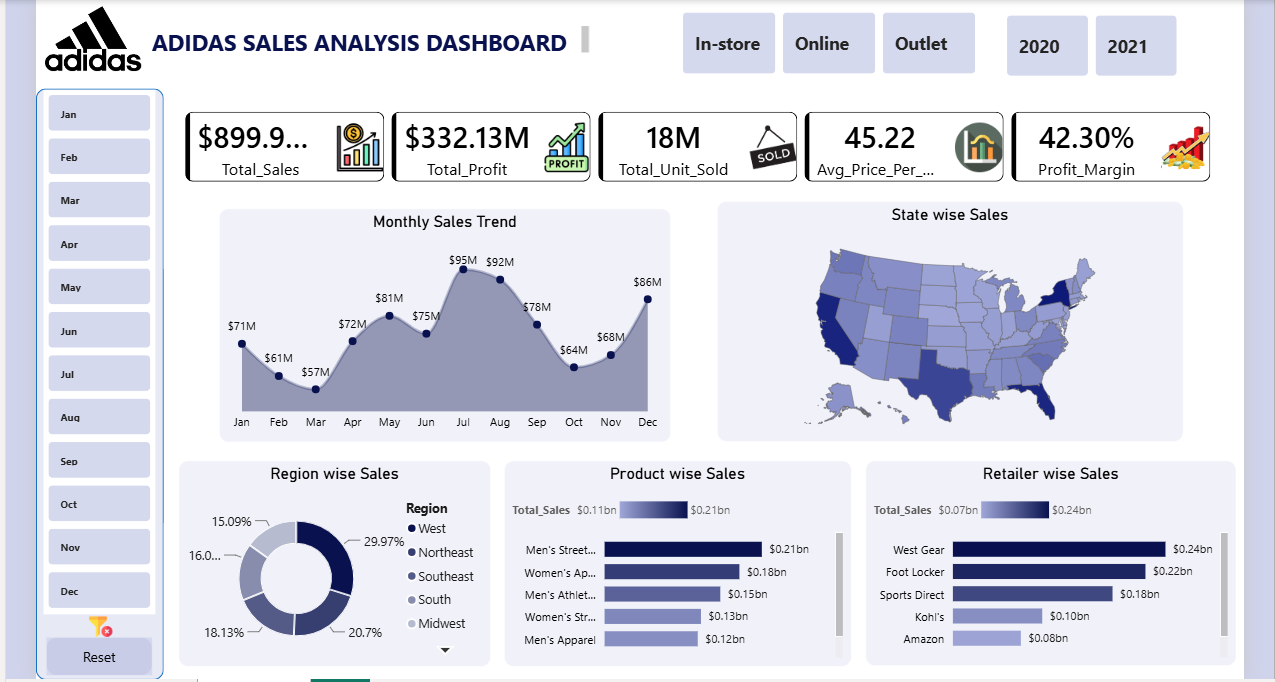

What the dashboard file says about the page in this screenshot:
{"tool":"powerbi","page":{"name":"Page 1","canvas":[1280,720],"ordinal":0},"visuals":[{"type":"cardVisual","fields":{"Data":["Data Sales Adidas.Total_Sales","Data Sales Adidas.Total_Profit","Data Sales Adidas.Total_Unit_Sold","Data Sales Adidas.Avg_Price_Per_Unit","Data Sales Adidas.Profit_Margin"]},"box":[138.9,98.1,1131.5,114.8],"z":0},{"type":"image","box":[8.9,0,102.2,82.2],"z":1000},{"type":"textbox","box":[117.8,22.2,473.3,40],"z":2000},{"type":"shape","box":[0,93.8,135.4,627.1],"z":3000},{"type":"areaChart","title":"Monthly Sales Trend","fields":{"Category":["Data Sales Adidas.Month"],"Y":["Data Sales Adidas.Total_Sales"]},"box":[194.4,220.4,479.6,248.1],"z":4000},{"type":"shapeMap","title":"State wise Sales","fields":{"Category":["Data Sales Adidas.State"],"Value":["Data Sales Adidas.Total_Sales"]},"box":[722.2,213,494.4,255.6],"z":5000},{"type":"donutChart","title":"Region wise Sales","fields":{"Category":["Data Sales Adidas.Region"],"Y":["Data Sales Adidas.Total_Sales"]},"box":[151.9,488.9,331.5,218.5],"z":6000},{"type":"clusteredBarChart","title":"Product wise Sales","fields":{"Category":["Data Sales Adidas.Product"],"Y":["Data Sales Adidas.Total_Sales"]},"box":[496.3,488.9,368.5,218.5],"z":7000},{"type":"clusteredBarChart","title":"Retailer wise Sales","fields":{"Category":["Data Sales Adidas.Retailer"],"Y":["Data Sales Adidas.Total_Sales"]},"box":[879.6,488.9,393.3,217.8],"z":8000},{"type":"advancedSlicerVisual","fields":{"Values":["Data Sales Adidas.Sales Method"]},"box":[680.4,8.7,320.8,75],"z":9000},{"type":"advancedSlicerVisual","fields":{"Values":["Data Sales Adidas.Invoice Date.Variation.Date Hierarchy.Year"]},"box":[1023.9,10.9,190.7,74.1],"z":10000},{"type":"advancedSlicerVisual","fields":{"Values":["Data Sales Adidas.Month"]},"box":[8.3,95.8,118.8,556.2],"z":11000},{"type":"image","box":[27.2,652.2,83.3,24.4],"z":12000},{"type":"actionButton","box":[11.7,676.7,111.7,40],"z":13000}]}

Visuals, with their boxes on the page's 1280x720 design canvas (x1, y1, x2, y2). These are canvas units, not pixel positions in the 1275x682 screenshot, which may show the page scaled, cropped or inside an application window:
cardVisual - Data Sales Adidas.Total_Sales x Data Sales Adidas.Total_Profit: bbox=(139, 98, 1270, 213)
image: bbox=(9, 0, 111, 82)
textbox: bbox=(118, 22, 591, 62)
shape: bbox=(0, 94, 135, 721)
"Monthly Sales Trend" areaChart: bbox=(194, 220, 674, 468)
"State wise Sales" shapeMap: bbox=(722, 213, 1217, 469)
"Region wise Sales" donutChart: bbox=(152, 489, 483, 707)
"Product wise Sales" clusteredBarChart: bbox=(496, 489, 865, 707)
"Retailer wise Sales" clusteredBarChart: bbox=(880, 489, 1273, 707)
advancedSlicerVisual - Data Sales Adidas.Sales Method: bbox=(680, 9, 1001, 84)
advancedSlicerVisual - Data Sales Adidas.Invoice Date.Variation.Date Hierarchy.Year: bbox=(1024, 11, 1215, 85)
advancedSlicerVisual - Data Sales Adidas.Month: bbox=(8, 96, 127, 652)
image: bbox=(27, 652, 110, 677)
actionButton: bbox=(12, 677, 123, 717)
